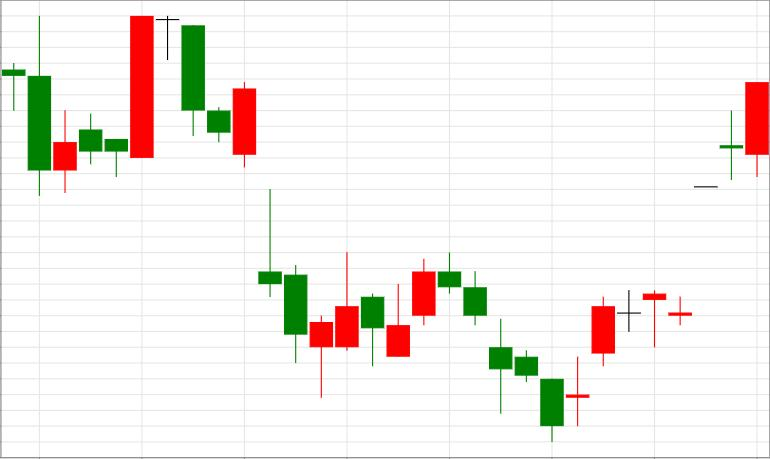inverse_hammer_rise: (181, 26, 359, 397)
